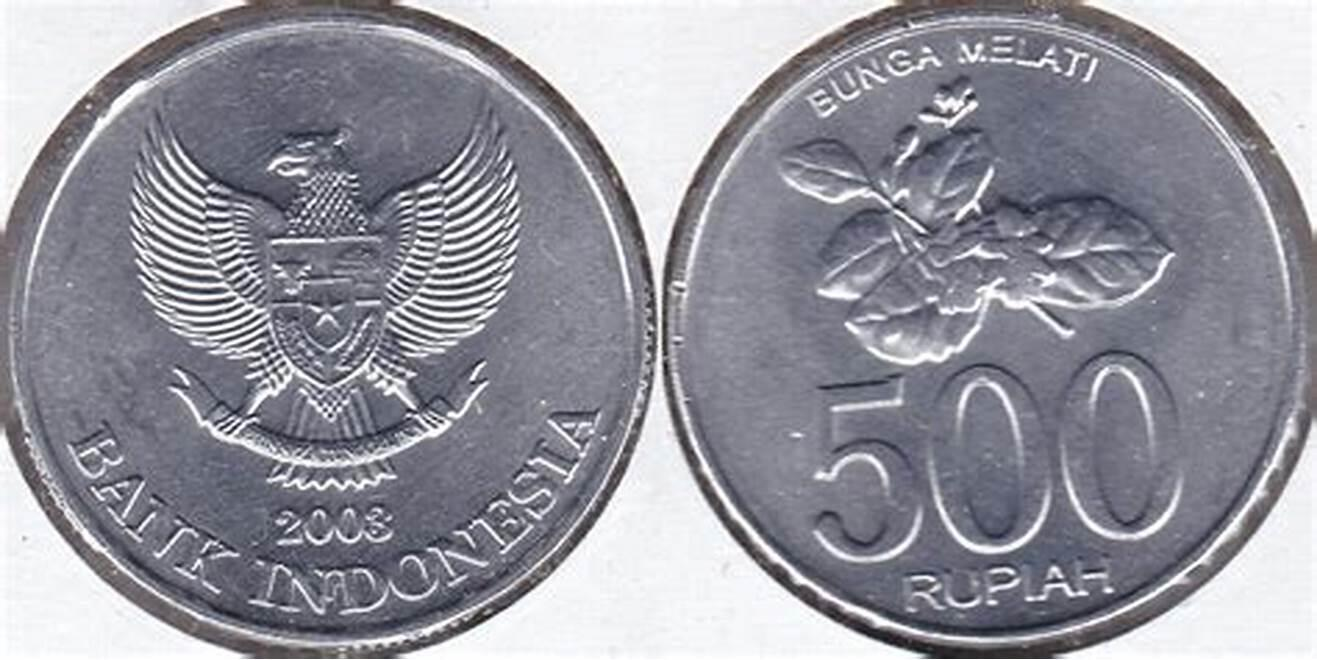coin_500_e2003: (662, 5, 1317, 660), (8, 7, 657, 653)
